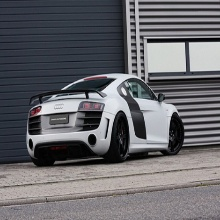no damage: (25, 72, 185, 162)
